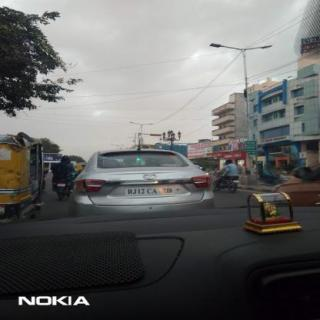Normal_vehicle: (69, 148, 214, 215)
